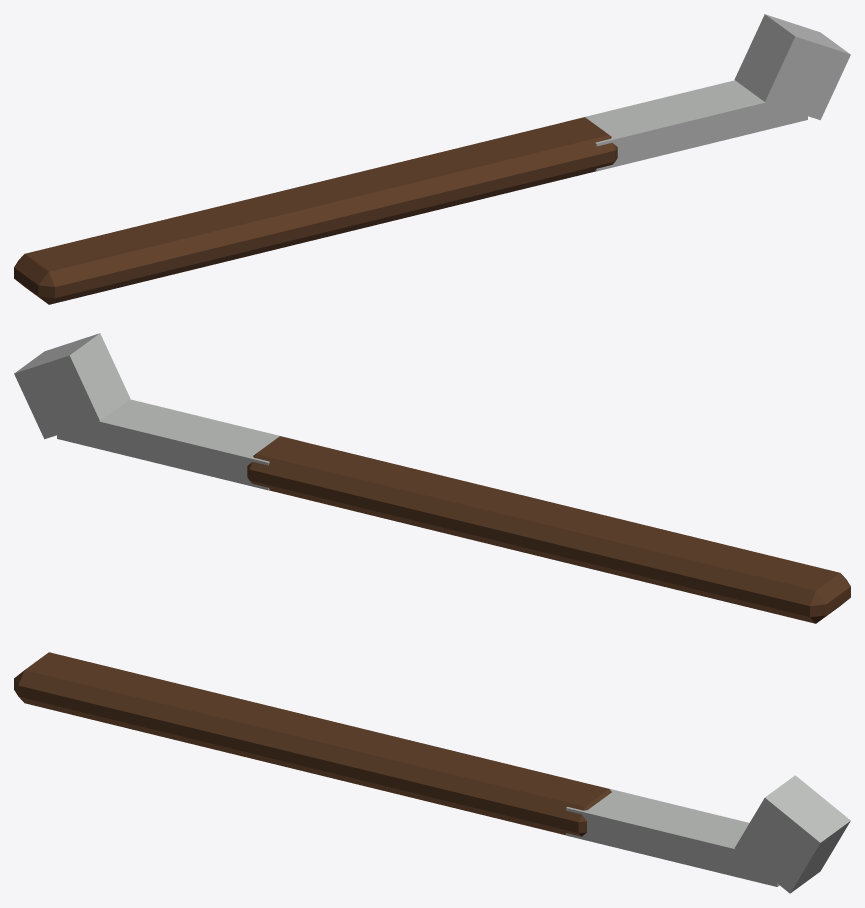
Rendered from can_opener.glb.
The picture shows the model from 3 angles, top to bottom: view 1: azimuth 30°, elevation 25°; view 2: azimuth 150°, elevation 25°; view 3: azimuth 330°, elevation 25°; orthographic projection.
Parts seen in each view (by area): view 1: Item; view 2: Item; view 3: Item.
Part boxes in pixels (left/top/right/bottom): Item: left=14, top=14, right=850, bottom=304; Item: left=14, top=333, right=850, bottom=623; Item: left=14, top=652, right=850, bottom=893.
Bounding box in the file's own units: 0.1531 × 0.0163 × 0.012.
